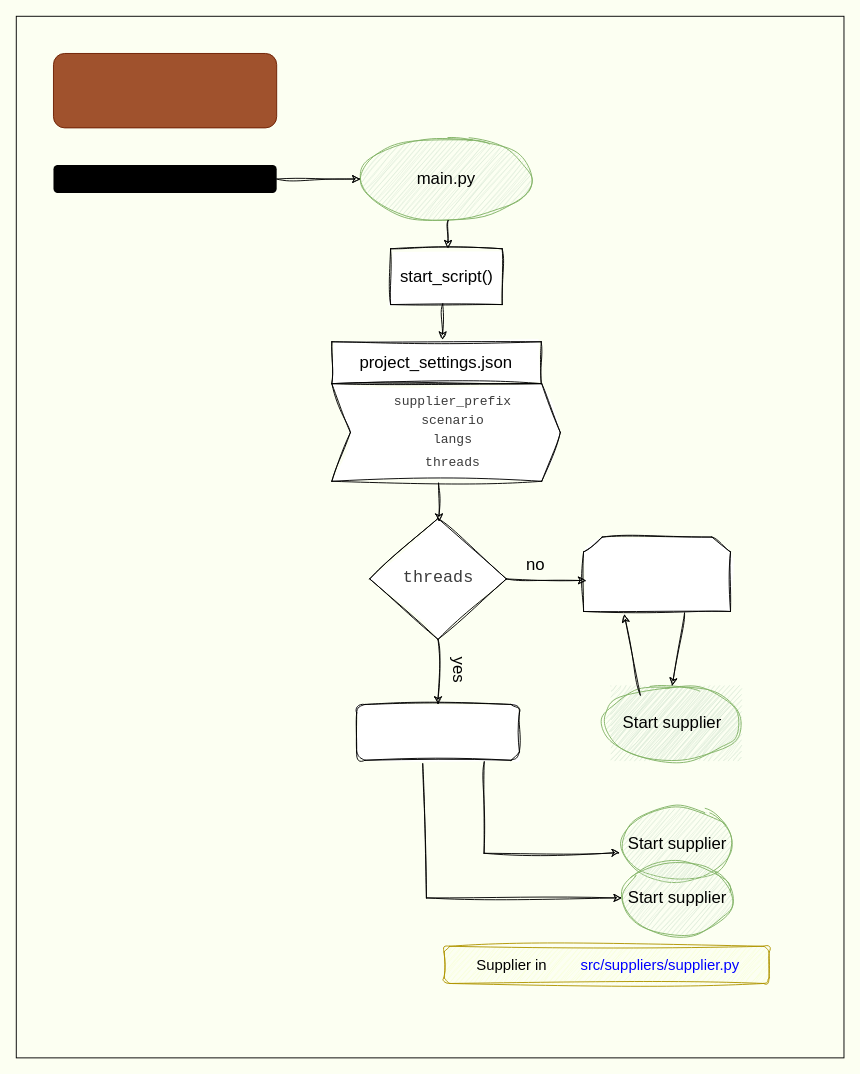
Some shapes in this 860 by 1074 pixel diagram are drawn without their labels. The centre of each missing label's shape, as x and y in pixels:
> python main.py: point (164, 179)
@namespace src @package src.main @file main.py: point (165, 90)
Thread4Supplier: point (437, 732)
while `supplier_prefix`: point (657, 573)
